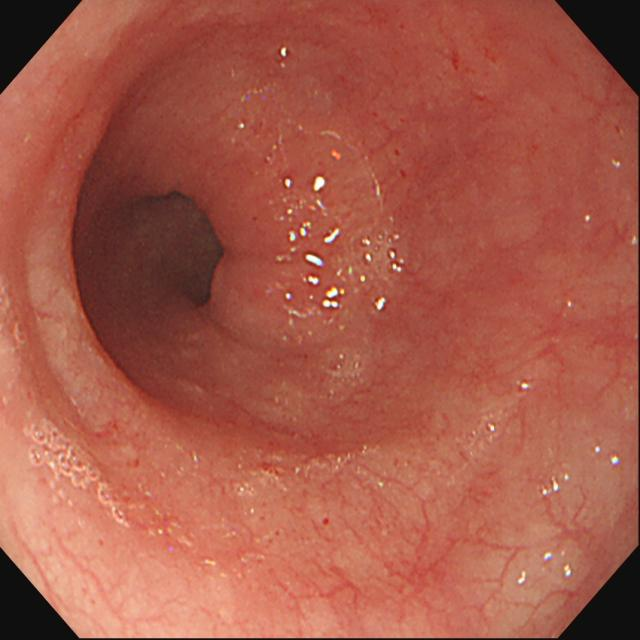E: (102, 193, 226, 313)
T: (267, 124, 405, 319), (22, 419, 137, 533), (227, 442, 391, 493), (2, 276, 27, 360), (321, 346, 371, 384), (466, 409, 509, 447)
